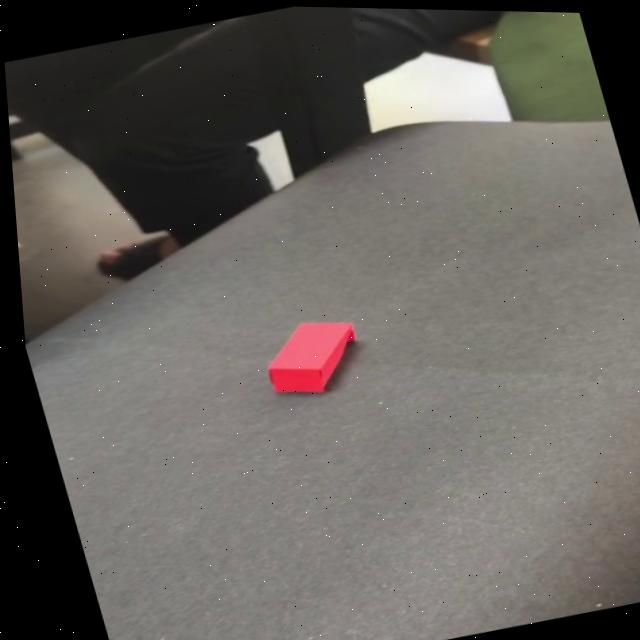red block: (251, 309, 370, 403)
